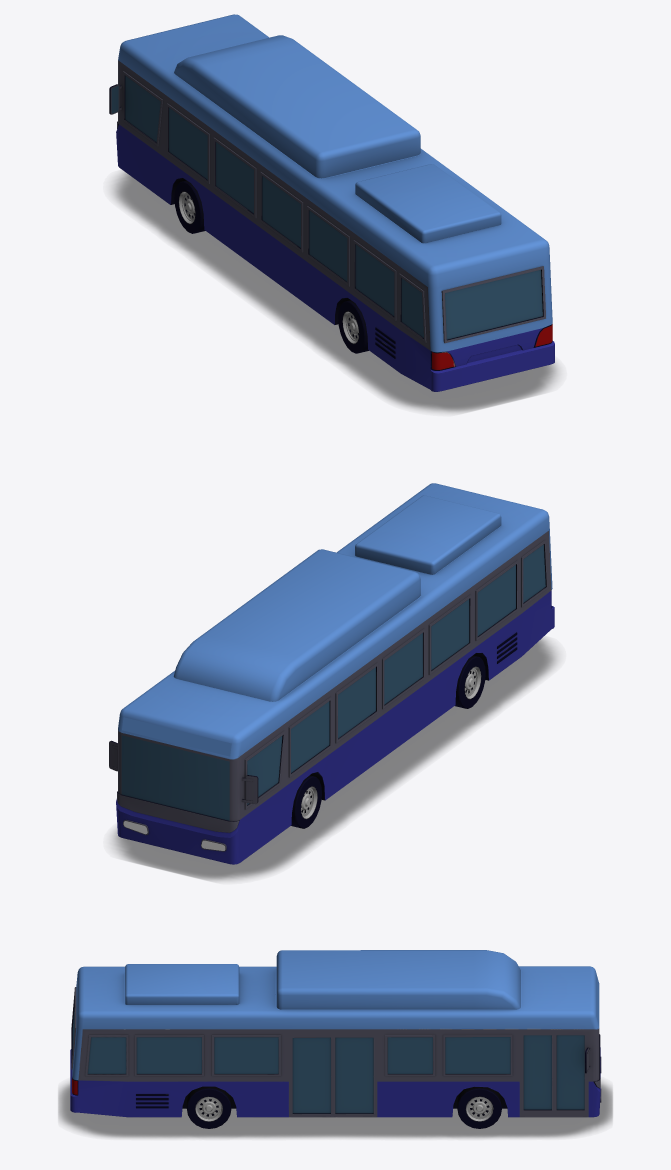
File: Bus.glb
3 views of the same model, one above another, from view 1: azimuth 30°, elevation 25°; view 2: azimuth 150°, elevation 25°; view 3: azimuth 270°, elevation 25° (orthographic). The views are drawn at different scales.
Visible parts, largest first — view 1: SM_Cheding, SM_Boli, SM_Lan, Shadow, SM_KJ, M_Hei, SM_Chelun, SM_Lungu; view 2: SM_Cheding, SM_Boli, SM_Lan, Shadow, SM_KJ, M_Hei, SM_Chelun, SM_Lungu; view 3: SM_Cheding, SM_Boli, SM_KJ, Shadow, SM_Lan, SM_Chelun, M_Hei, SM_Lungu.
Part boxes in pixels (x1=…): SM_Cheding: x1=118, y1=14, x2=552, y2=352; SM_Boli: x1=111, y1=76, x2=542, y2=339; SM_Lan: x1=116, y1=124, x2=554, y2=391; Shadow: x1=112, y1=171, x2=557, y2=412; SM_KJ: x1=110, y1=60, x2=545, y2=350; M_Hei: x1=109, y1=75, x2=552, y2=370; SM_Chelun: x1=174, y1=180, x2=368, y2=353; SM_Lungu: x1=179, y1=192, x2=358, y2=343; SM_Cheding: x1=118, y1=483, x2=552, y2=759; SM_Boli: x1=121, y1=544, x2=545, y2=820; SM_Lan: x1=116, y1=590, x2=554, y2=864; Shadow: x1=112, y1=637, x2=557, y2=880; SM_KJ: x1=109, y1=531, x2=551, y2=851; M_Hei: x1=110, y1=544, x2=552, y2=821; SM_Chelun: x1=291, y1=655, x2=485, y2=828; SM_Lungu: x1=301, y1=667, x2=480, y2=818; SM_Cheding: x1=72, y1=950, x2=599, y2=1080; SM_Boli: x1=72, y1=1008, x2=584, y2=1113; SM_KJ: x1=71, y1=987, x2=601, y2=1117; Shadow: x1=58, y1=1081, x2=612, y2=1138; SM_Lan: x1=70, y1=1047, x2=600, y2=1117; SM_Chelun: x1=186, y1=1086, x2=501, y2=1128; M_Hei: x1=71, y1=993, x2=600, y2=1116; SM_Lungu: x1=195, y1=1097, x2=492, y2=1121.
Size of the model in its own units: 4.43 by 2.73 by 11.74.
3 materials, 3 textured.
